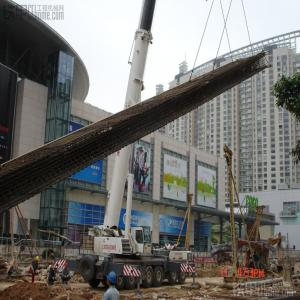blue: (107, 272, 118, 288)
red: (65, 263, 69, 270)
white: (50, 265, 54, 271)
yellow: (36, 257, 40, 263)
